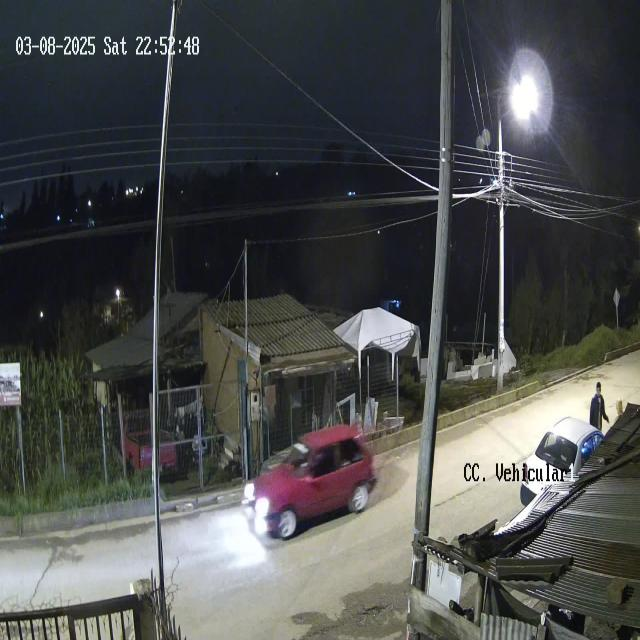SED: (244, 423, 378, 543)
